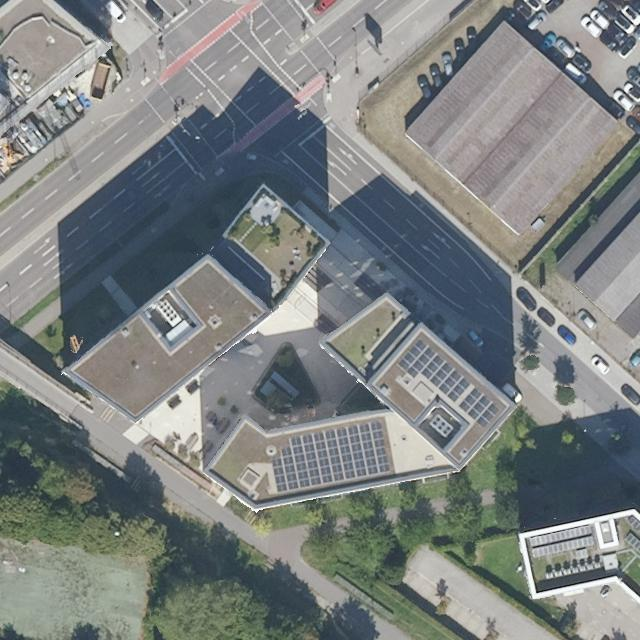PV: (396, 336, 503, 431), (269, 419, 393, 495), (527, 524, 597, 560), (621, 528, 639, 555), (626, 515, 639, 531)
